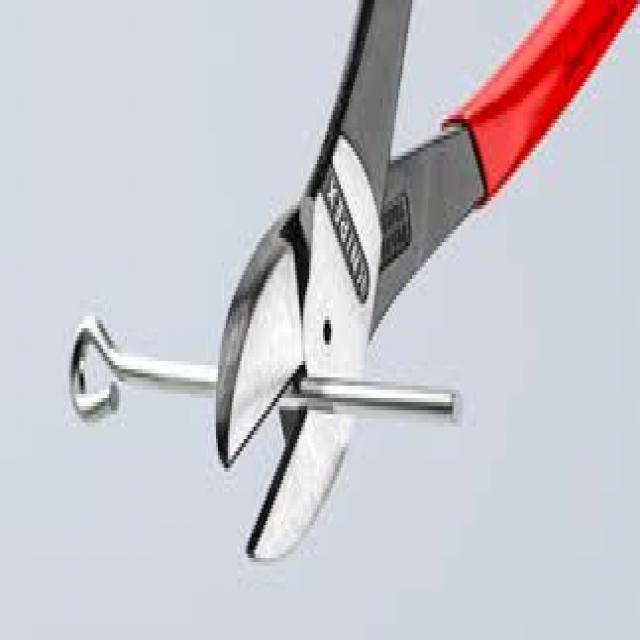pliers: (202, 0, 640, 587)
